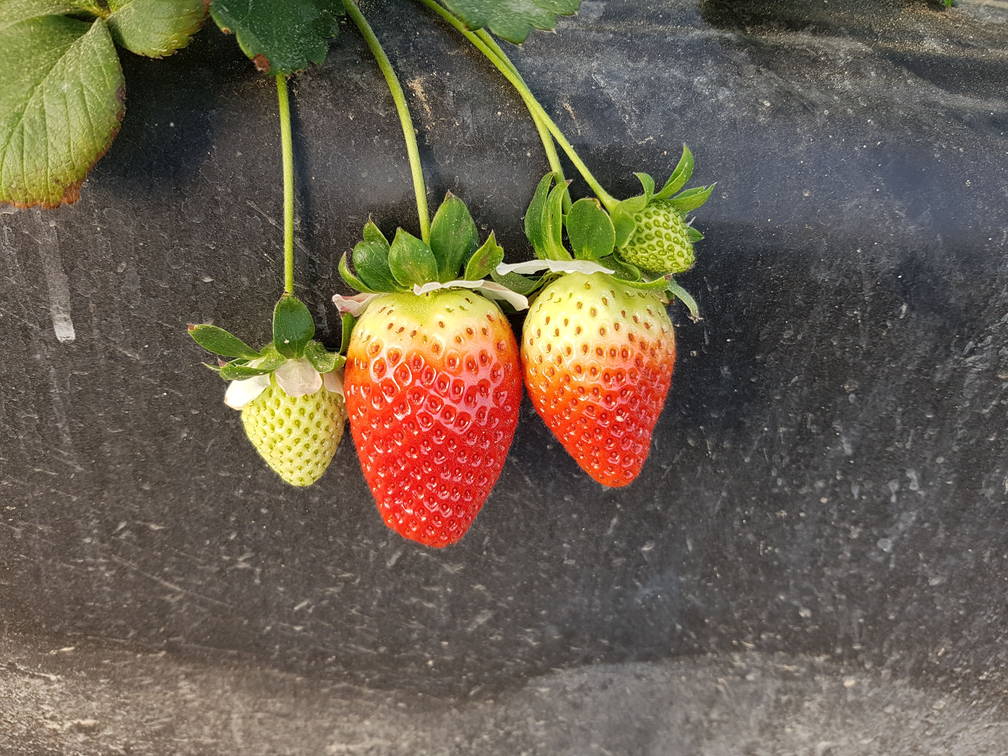peduncle: (423, 0, 618, 211), (345, 3, 428, 241), (519, 90, 562, 178), (277, 75, 294, 295), (463, 29, 524, 84)
strawberry: (347, 289, 521, 547), (521, 273, 674, 486), (242, 379, 345, 485)
